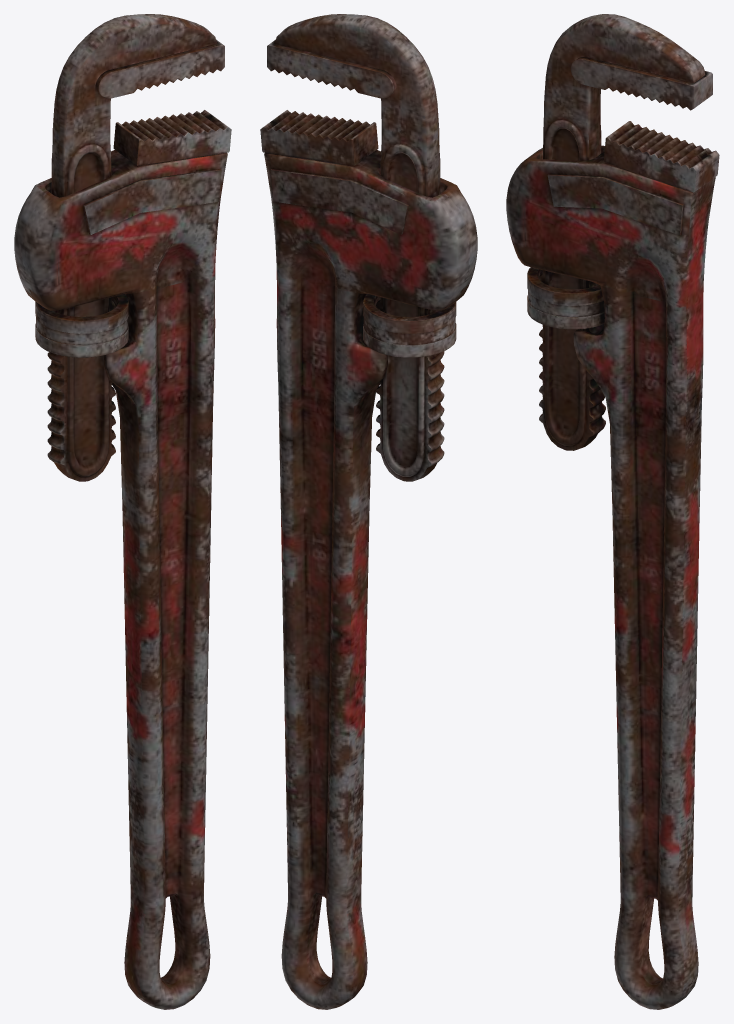
Rendered from pipe-wrench.glb.
3 views of the same model, side by side, from view 1: azimuth 30°, elevation 25°; view 2: azimuth 150°, elevation 25°; view 3: azimuth 330°, elevation 25° (orthographic).
Visible parts, largest first — view 1: pipe_wrench; view 2: pipe_wrench; view 3: pipe_wrench.
Part boxes in pixels (x1,y1,x2,y2): pipe_wrench: [14, 14, 231, 1009]; pipe_wrench: [260, 14, 477, 1009]; pipe_wrench: [506, 14, 719, 1009].
Bounding box in the file's own units: 0.084 × 0.4047 × 0.0343.
1 material, 1 textured.
